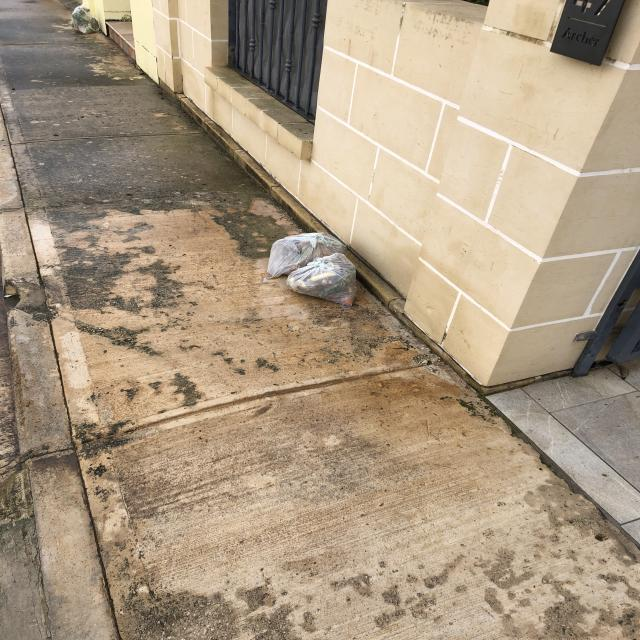Organic Waste -White Bag-: (264, 232, 350, 281), (286, 254, 360, 308)
